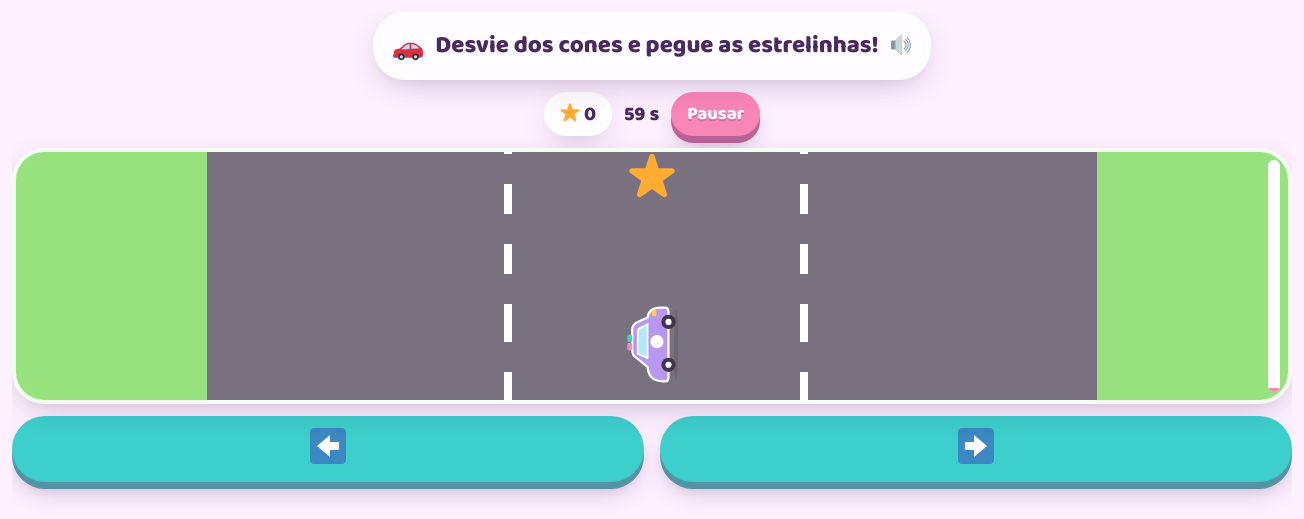
Scenario: Corrida das Estrelinhas › pausa o tempo e continua sem reiniciar a partida
Expected: the text named "Tempo restante" reads "59 s", x1=624 y1=100 x2=659 y2=128
Step 1. Click the button "Pausar" → (716, 114), box x1=671 y1=92 x2=760 y2=136
Wait 10000 ms
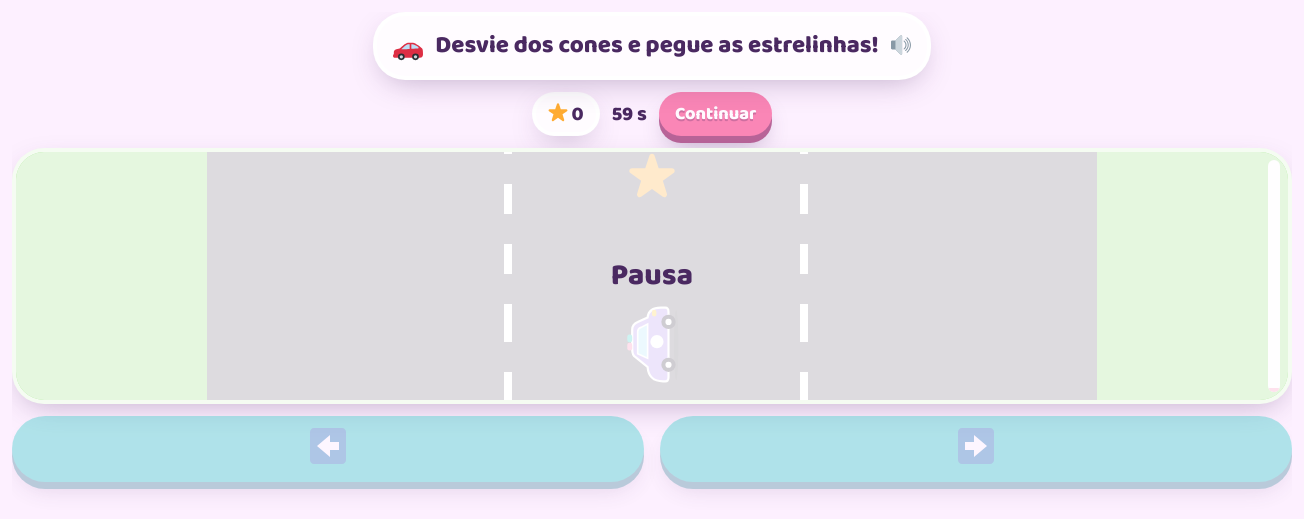
Expected: the text named "Tempo restante" reads "59 s", x1=612 y1=100 x2=647 y2=128
Step 2. Click the button "Continuar" → (716, 114), box x1=659 y1=92 x2=772 y2=136
Wait 1000 ms
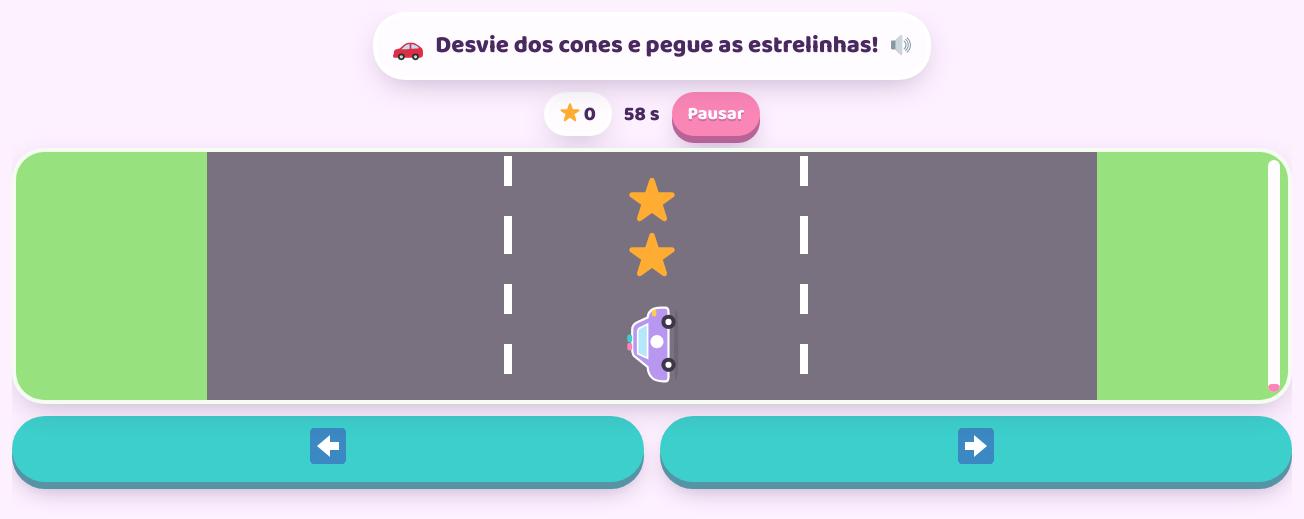
Result: the text named "Tempo restante" reads "58 s" at x1=624 y1=100 x2=660 y2=128
